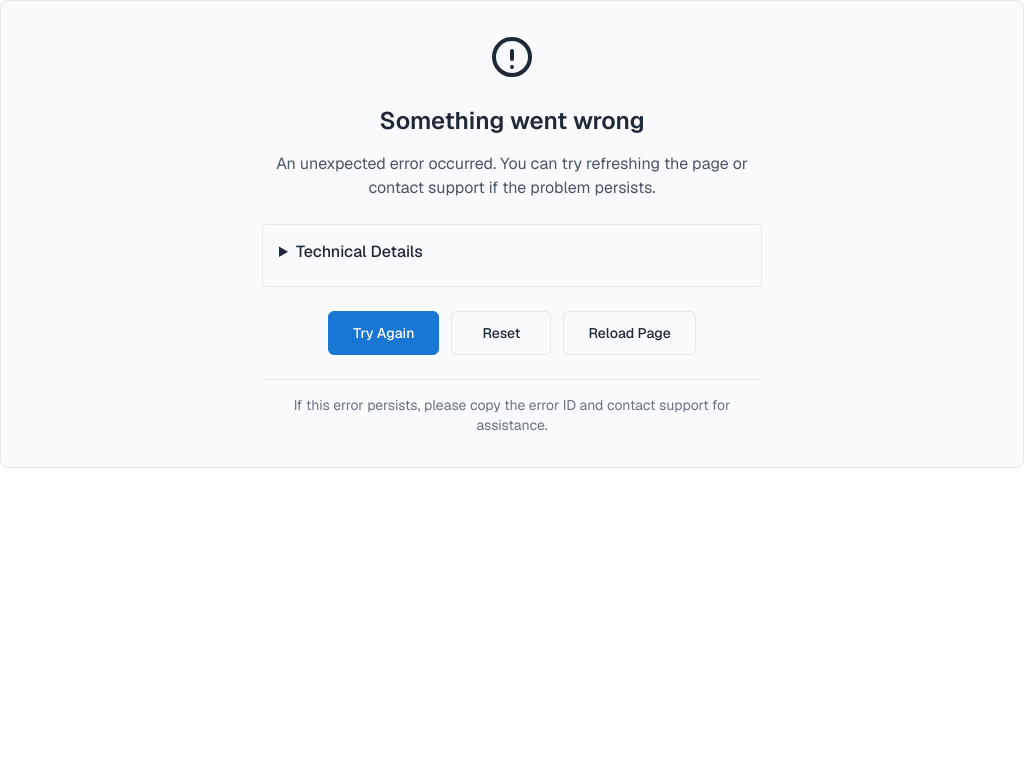
Scenario: ErrorBoundary › Error State Management › should generate unique error IDs
Click the heading "Technical Details": coordinates (359, 252) [296,241,423,262]
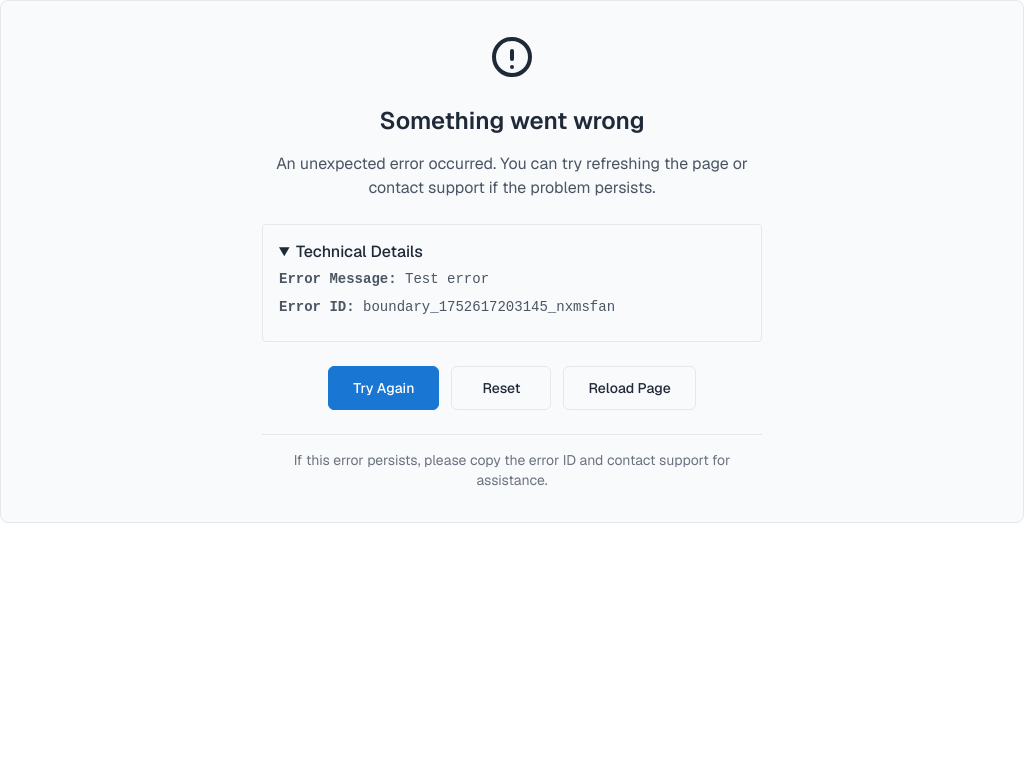
Expected: the text "Error ID:" is shown, [279,299,355,315]
